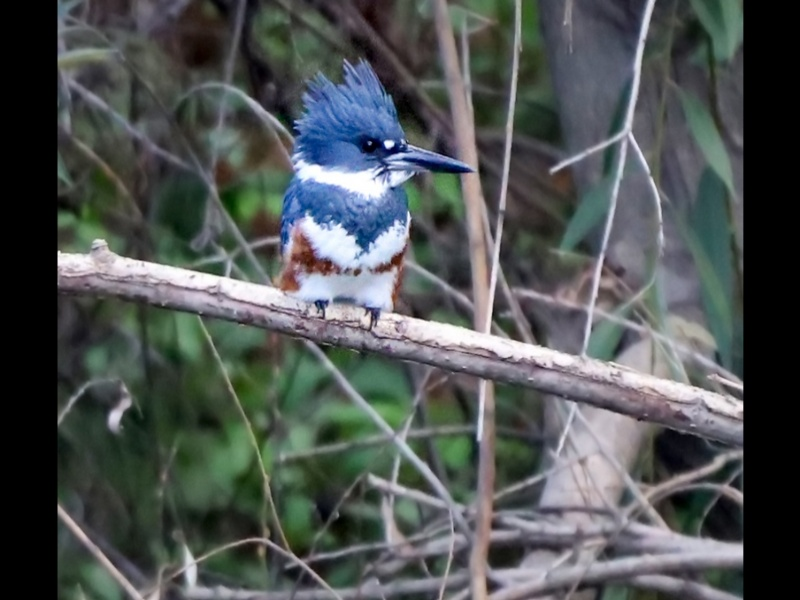kingfisher: (272, 58, 476, 362)
